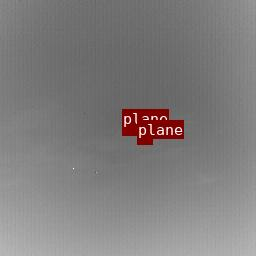plane: (122, 128, 137, 135), (137, 139, 152, 144)
